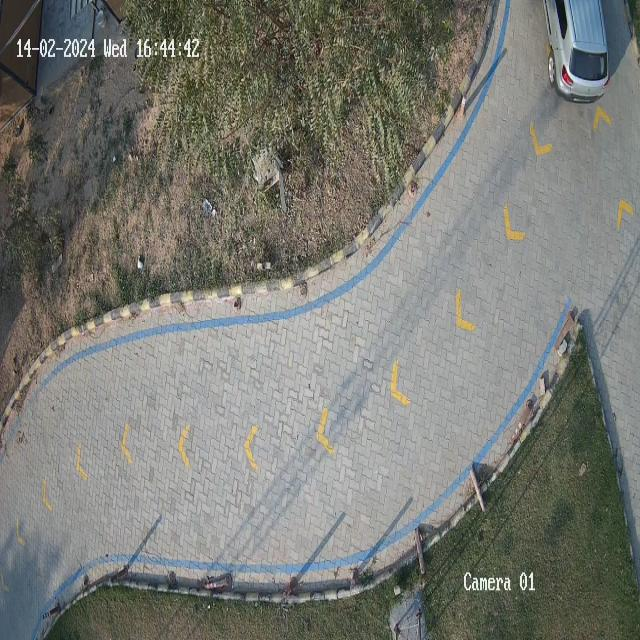car: (544, 0, 610, 102)
